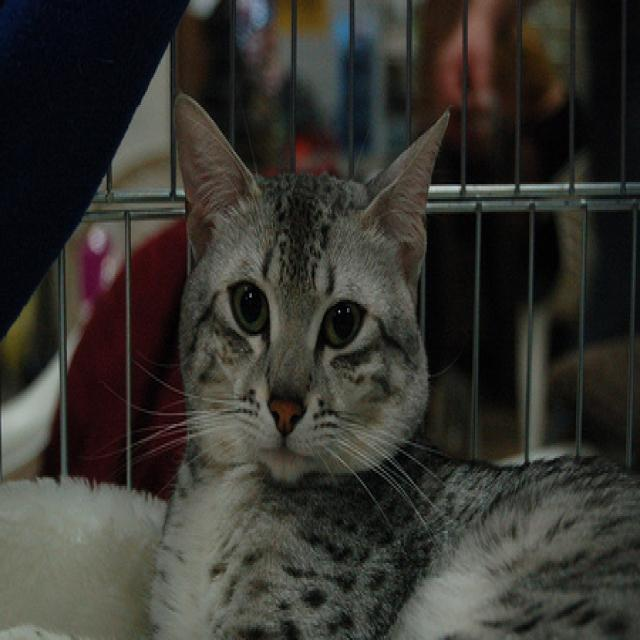Egyptian Mau: (146, 88, 640, 640)
